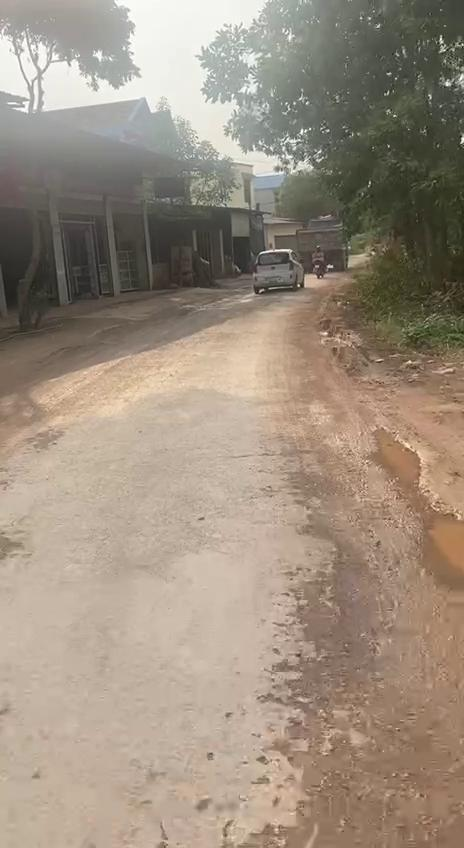pothole: (366, 418, 464, 590)
